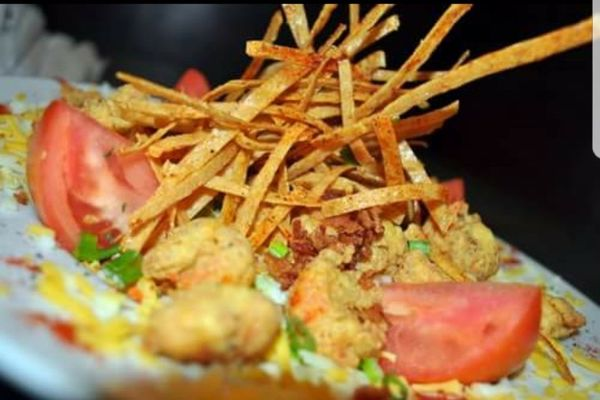sandwich: (6, 37, 588, 391)
